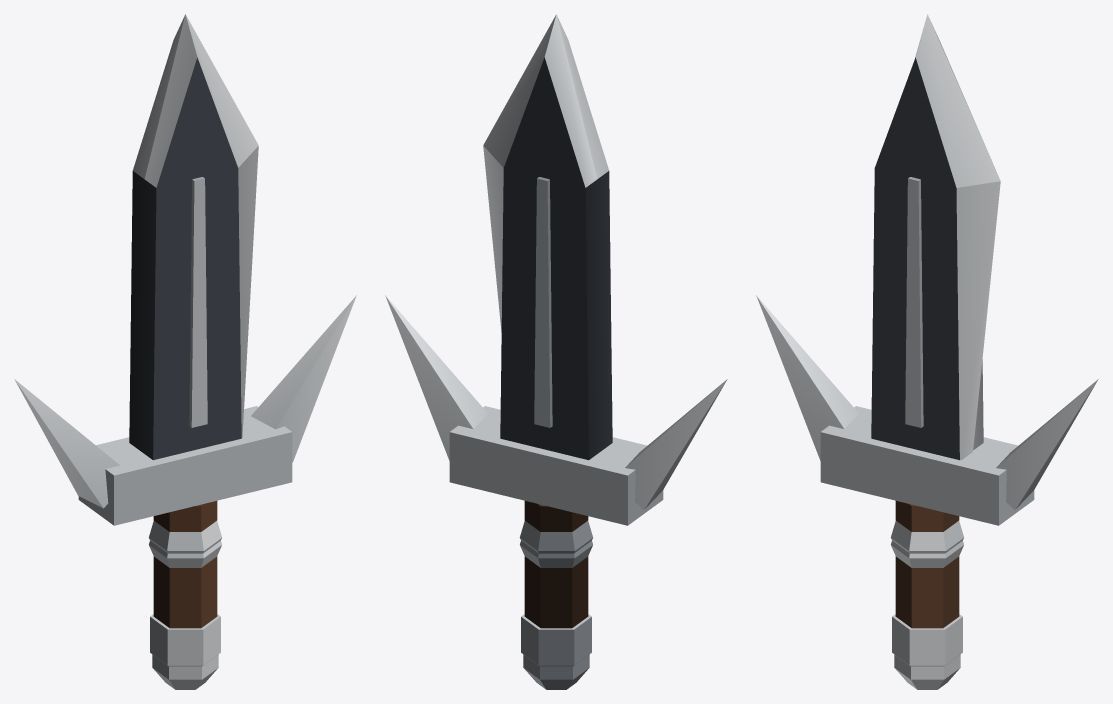
File: rogue_daggers_2.gltf
3 views of the same model, side by side, from view 1: azimuth 30°, elevation 25°; view 2: azimuth 150°, elevation 25°; view 3: azimuth 330°, elevation 25° (orthographic).
Visible parts, largest first — view 1: rogue_daggers_2; view 2: rogue_daggers_2; view 3: rogue_daggers_2.
Part boxes in pixels (<box>): rogue_daggers_2: <box>14,14,356,689</box>; rogue_daggers_2: <box>385,14,727,689</box>; rogue_daggers_2: <box>756,14,1098,689</box>.
Size of the model in its own units: 0.5 by 0.9316 by 0.0928.
1 material, 1 textured.
